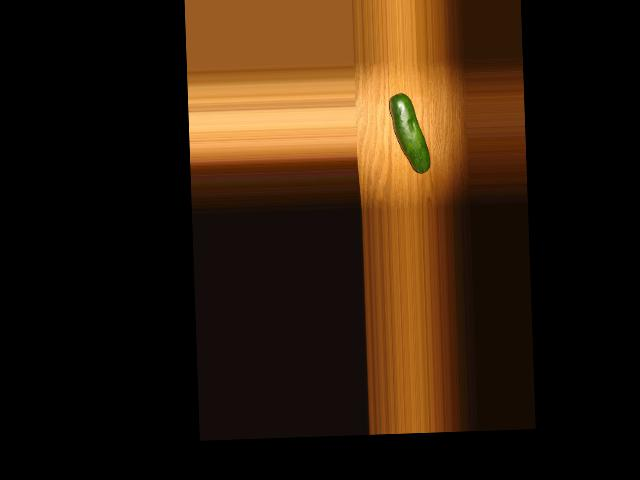cucumber: (388, 93, 430, 175)
